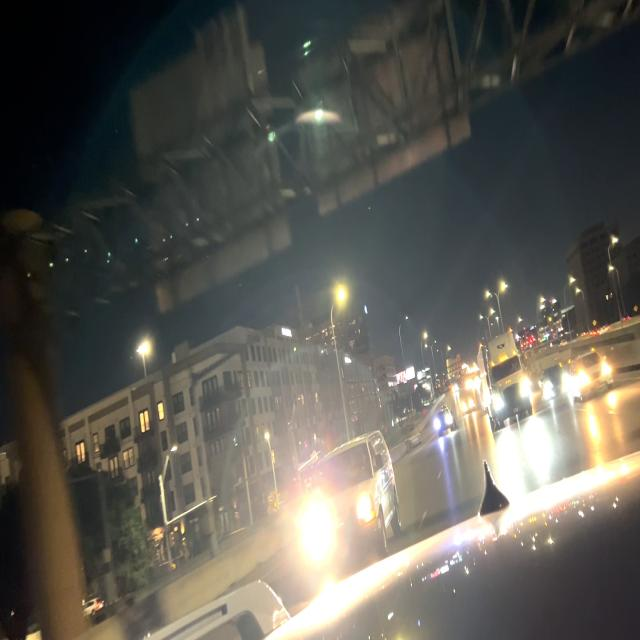back-of-sign: (131, 6, 470, 314)
